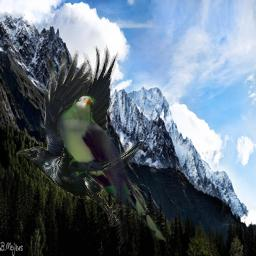Crow: (16, 44, 143, 227)
Cuckoo: (57, 94, 172, 243)
